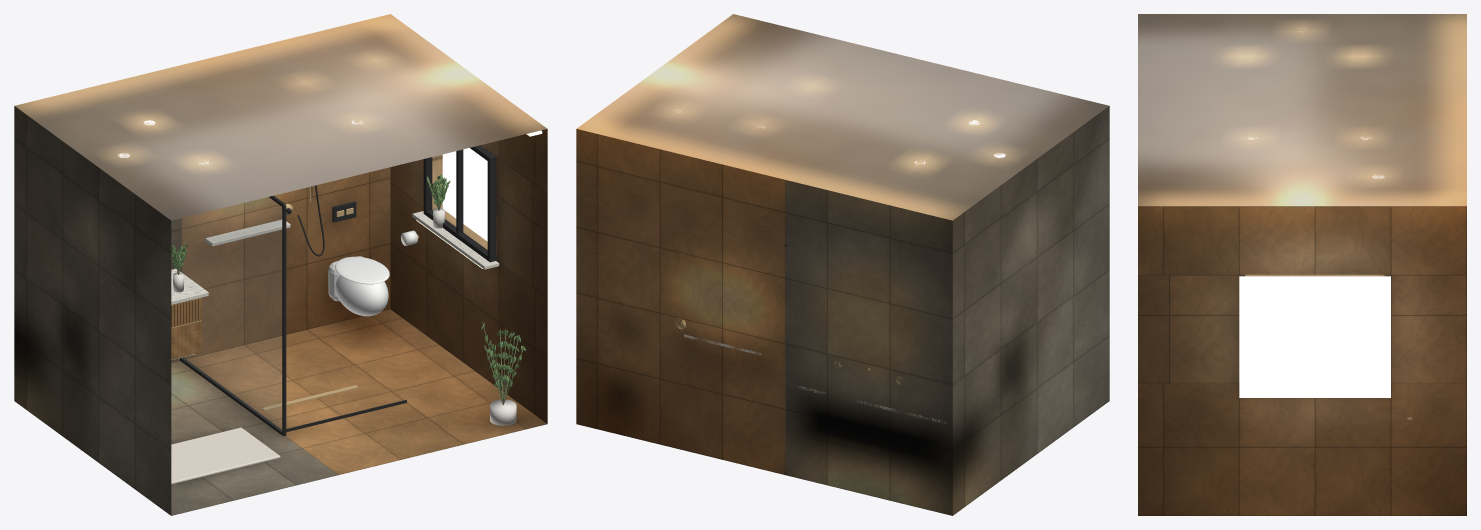
File: bath_v3.glb
3 renders of one model, left to right at view 1: azimuth 30°, elevation 25°; view 2: azimuth 150°, elevation 25°; view 3: azimuth 270°, elevation 25°, orthographic. The views are drawn at different scales.
Parts seen in each view (by area): view 1: Shell_Ceiling, Shell_Left Wall, Shell_Floor Wet, Shell_Back Wet, Shell_Right Below, Glass Partition, Shell_Floor Vanity, Shell_Right Front, Floor Rug, Window Frame, Window Sky, Shell_Right Above (+12 smaller); view 2: Shell_Back Wet, Shell_Ceiling, Shell_Back Vanity, Shell_Left Wall; view 3: Shell_Ceiling, Shell_Right Below, Shell_Right Above, Window Sky, Shell_Right Front, Shell_Right Back, Reveal Top.
Boxes of the visible parts, x1,y1,x2,y2 form: Shell_Ceiling: (14, 14, 547, 220); Shell_Left Wall: (14, 106, 171, 515); Shell_Floor Wet: (186, 309, 547, 474); Shell_Back Wet: (181, 167, 390, 358); Shell_Right Below: (390, 184, 547, 423); Glass Partition: (181, 197, 281, 430); Shell_Floor Vanity: (171, 361, 338, 515); Shell_Right Front: (496, 157, 547, 297); Floor Rug: (171, 427, 280, 484); Window Frame: (423, 145, 496, 262); Window Sky: (442, 148, 487, 241); Shell_Right Above: (480, 129, 547, 194); Shell_Back Wet: (576, 129, 785, 474); Shell_Ceiling: (576, 14, 1109, 220); Shell_Back Vanity: (785, 180, 952, 515); Shell_Left Wall: (952, 106, 1109, 515); Shell_Ceiling: (1138, 14, 1466, 206); Shell_Right Below: (1138, 384, 1466, 515); Shell_Right Above: (1138, 206, 1466, 275); Window Sky: (1239, 276, 1390, 397); Shell_Right Front: (1138, 275, 1244, 383); Shell_Right Back: (1385, 275, 1466, 383); Reveal Top: (1245, 274, 1384, 276).
Size of the model in its own units: 3.75 by 2.7 by 2.6.
20 materials, 5 textured.
